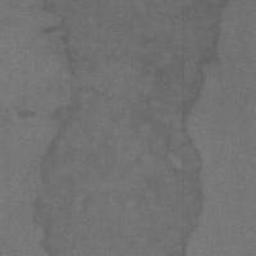Water spot: (33, 0, 228, 256), (17, 108, 36, 119)
